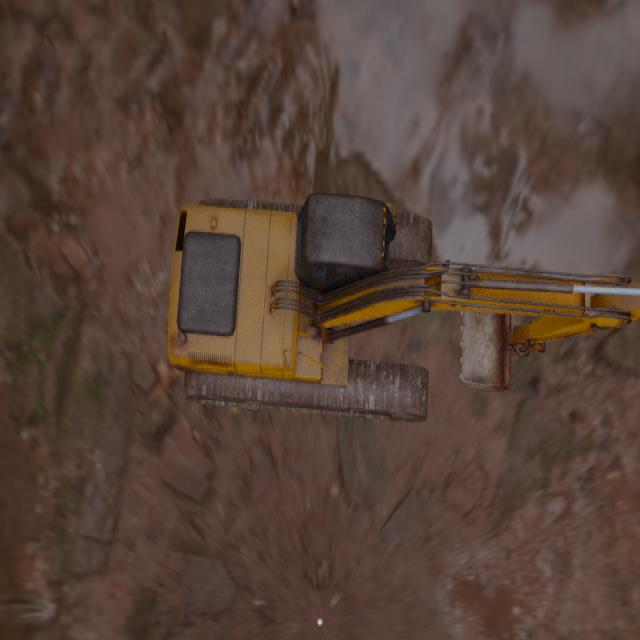excavator: (167, 192, 640, 423)
